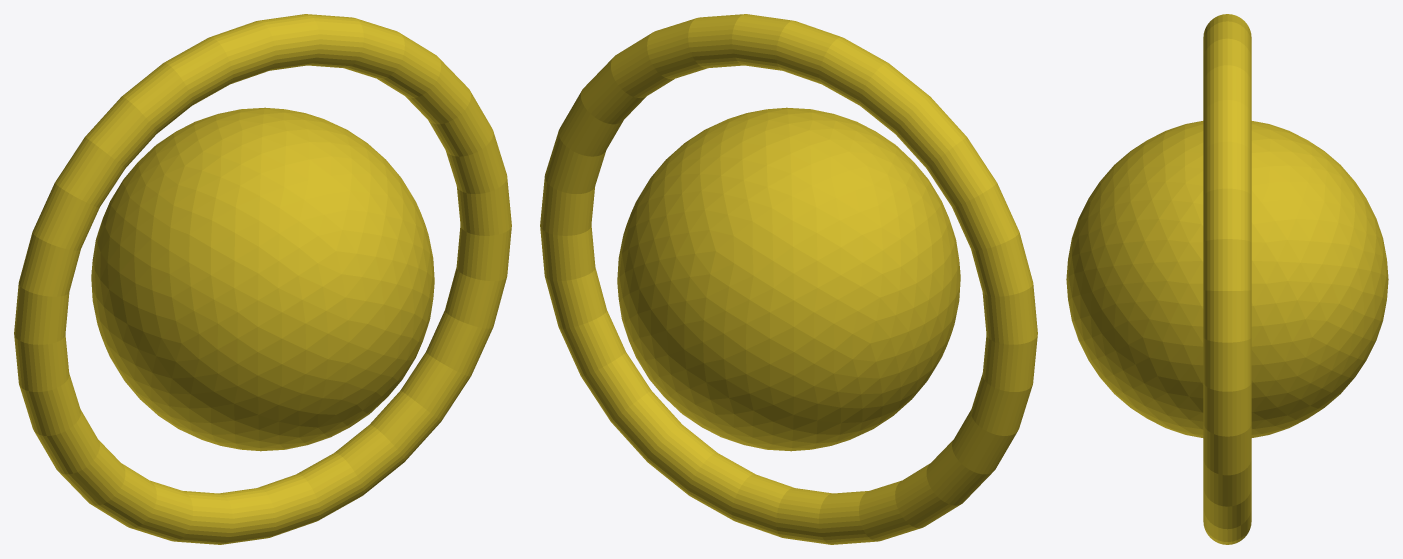
Rendered from creature_12.glb.
The picture shows the model from 3 angles, left to right: view 1: azimuth 30°, elevation 25°; view 2: azimuth 150°, elevation 25°; view 3: azimuth 270°, elevation 25°; orthographic projection. The views are drawn at different scales.
Visible parts, largest first — view 1: geometry_0; view 2: geometry_0; view 3: geometry_0.
Part boxes in pixels (bbox=[...]): geometry_0: bbox=[14, 14, 511, 544]; geometry_0: bbox=[540, 14, 1037, 544]; geometry_0: bbox=[1066, 14, 1388, 544].
Size of the model in its own units: 3.3 by 3.3 by 2.
